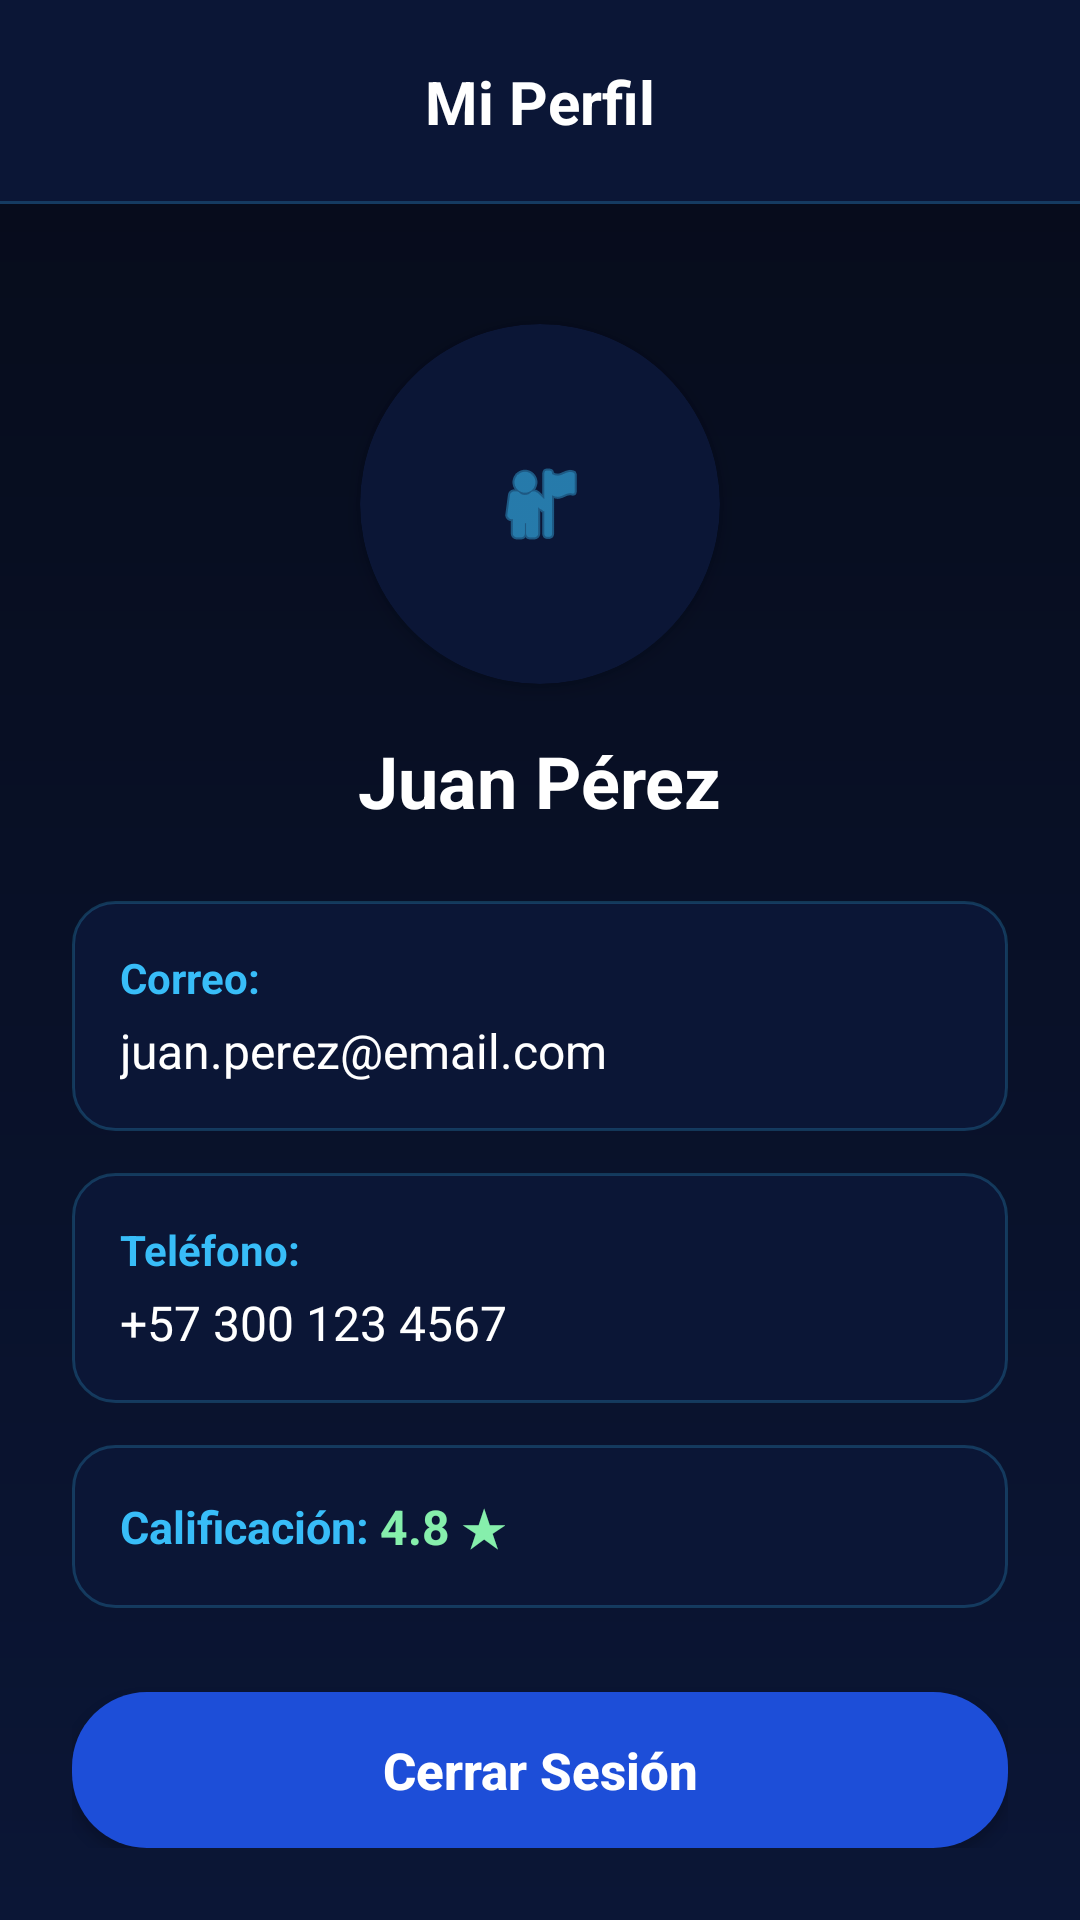

Screen size 1080x1920. Icon name, then its box in pixels as bbox=(x1, y1, x2, y2):
Avatar del repartidor: bbox=(505, 468, 577, 540)
